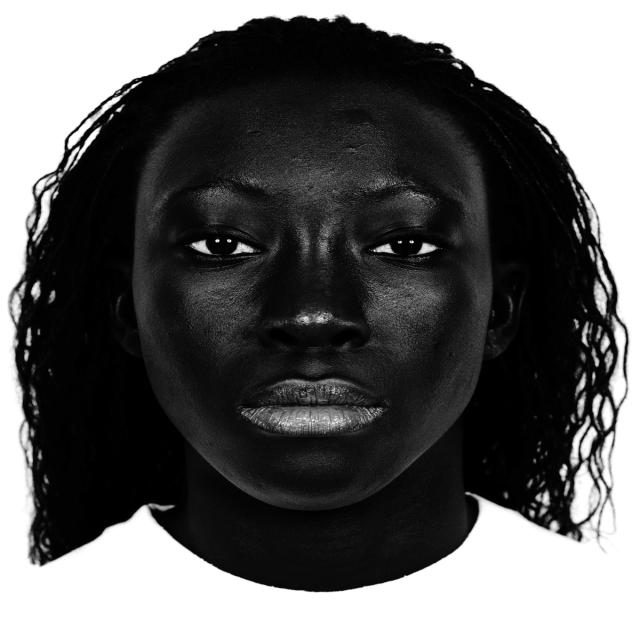sem_oculos: (123, 170, 504, 293)
